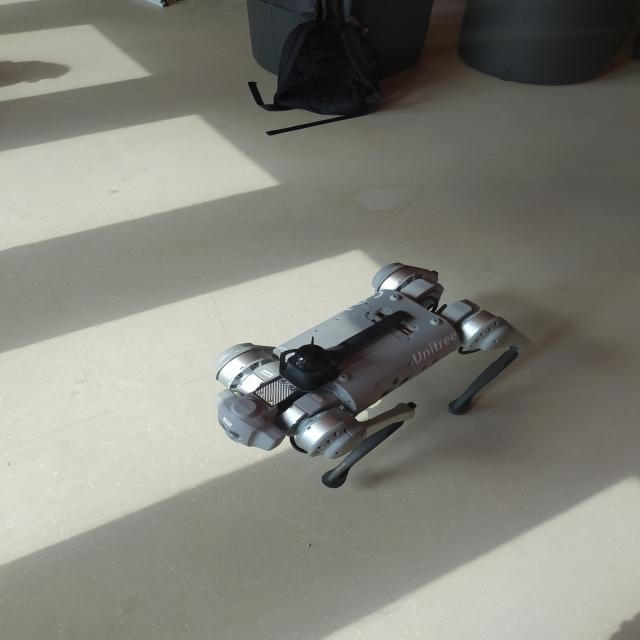unitree-go1-robot: (190, 251, 536, 500)
